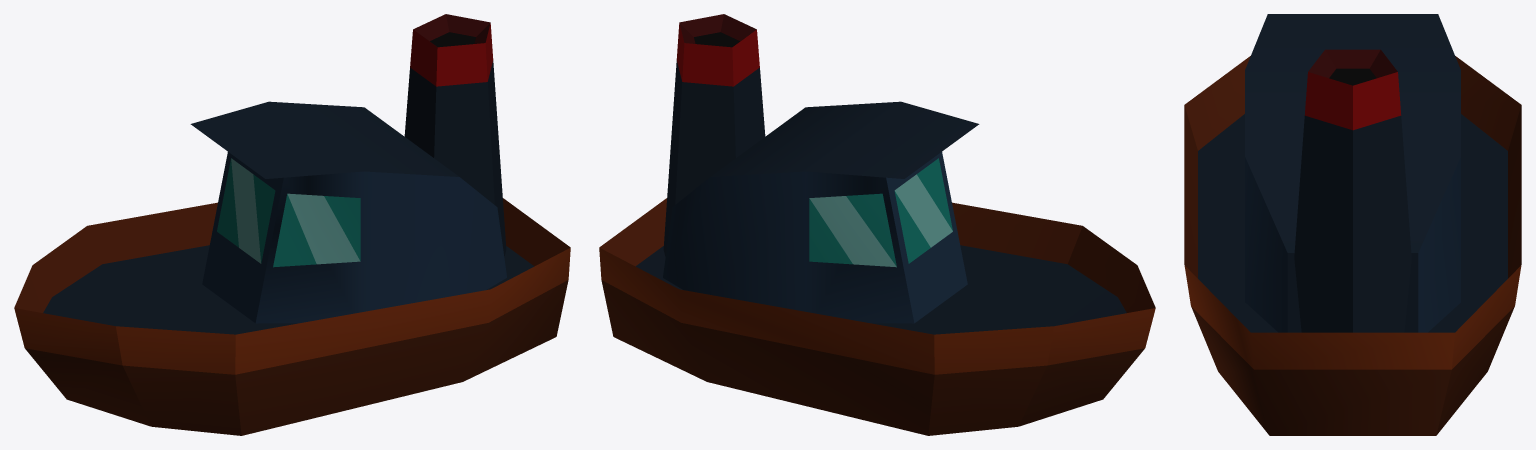
The model's file is Boatnormal.FBX.
The picture shows the model from 3 angles, left to right: view 1: azimuth 30°, elevation 25°; view 2: azimuth 150°, elevation 25°; view 3: azimuth 270°, elevation 25°; orthographic projection. The views are drawn at different scales.
Visible parts, largest first — view 1: Box002; view 2: Box002; view 3: Box002.
Part boxes in pixels (x1=…): Box002: x1=14, y1=14, x2=570, y2=435; Box002: x1=599, y1=14, x2=1155, y2=435; Box002: x1=1184, y1=14, x2=1521, y2=435.
Bounding box in the file's own units: 87.37 × 48.09 × 43.96.
